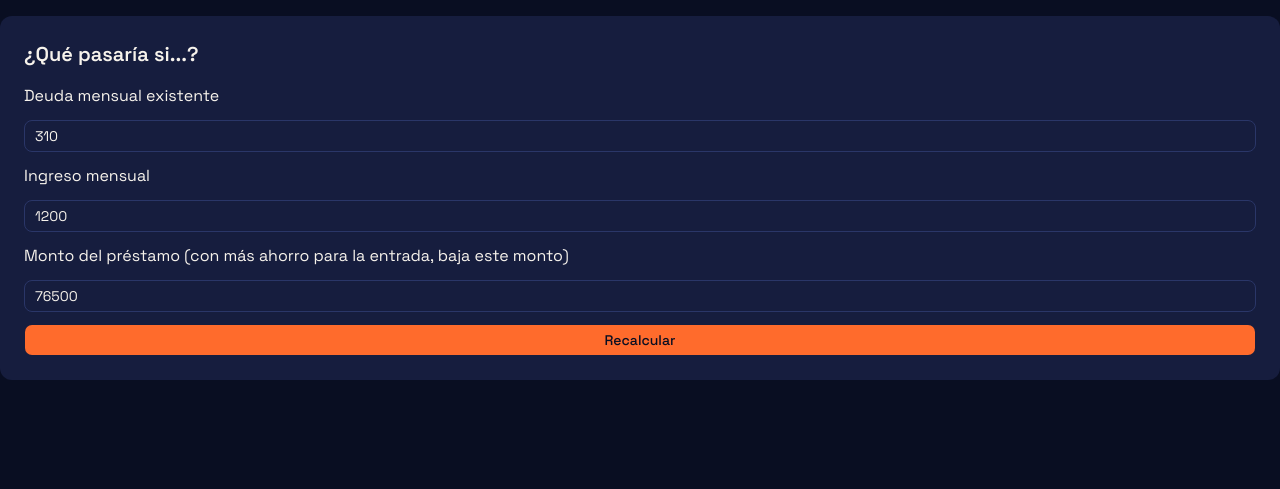
SimuladorPanel › shows the recalculated ratios and monthly payment behind the verdict
Click the button "Recalcular" at (640, 340), box [24, 324, 1256, 356]
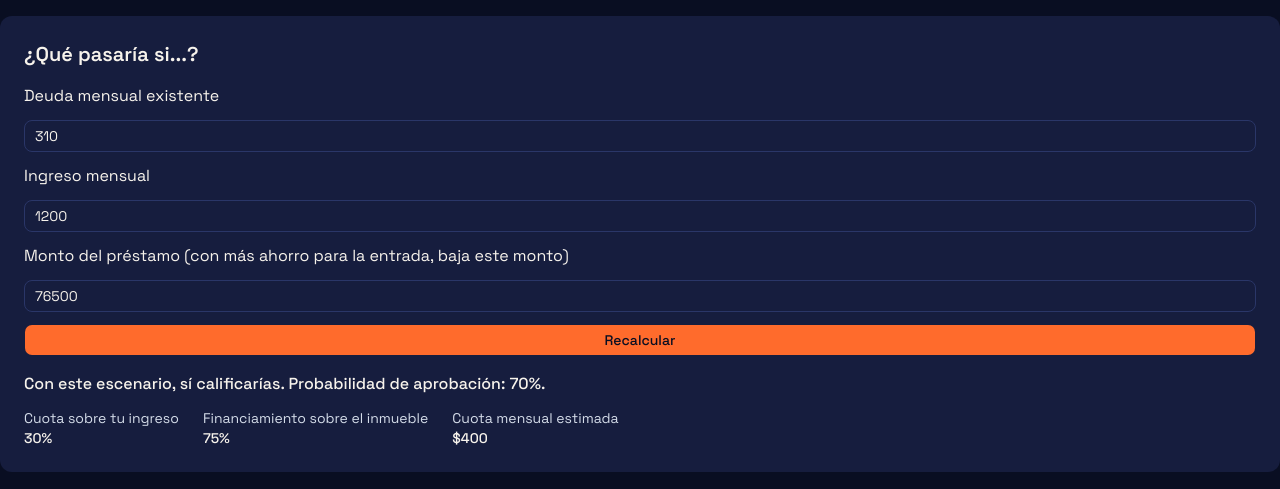
Check: the text "30%" is shown, box [24, 429, 52, 447]
Check: the text "75%" is shown, box [203, 429, 230, 447]
Check: the text "$400" is shown, box [452, 429, 488, 447]
